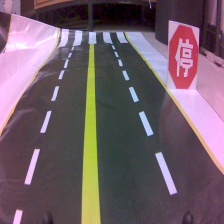stop: (167, 18, 200, 96)
